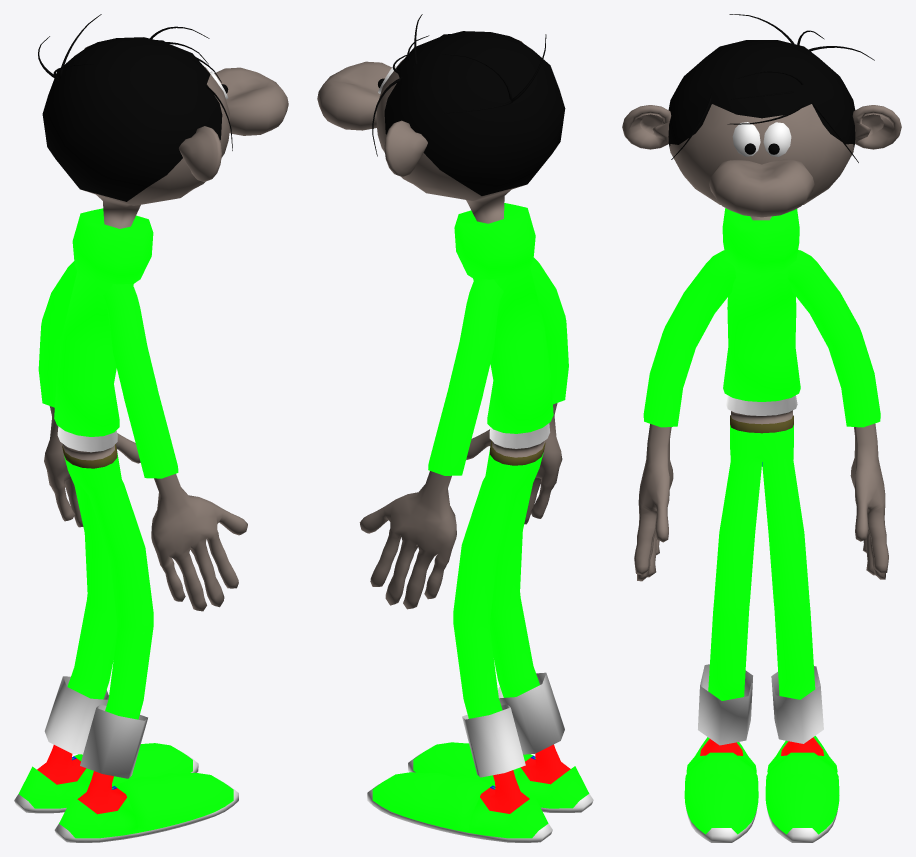
Rendered from spectator_green_medium.dae.
The picture shows the model from 3 angles, left to right: view 1: azimuth 30°, elevation 25°; view 2: azimuth 150°, elevation 25°; view 3: azimuth 270°, elevation 25°; orthographic projection.
Parts seen in each view (by area): view 1: Spectator; view 2: Spectator; view 3: Spectator.
Boxes of the visible parts, left/top/right/bottom form: Spectator: left=14, top=14, right=288, bottom=842; Spectator: left=317, top=14, right=593, bottom=842; Spectator: left=622, top=14, right=901, bottom=842.
Bounding box in the file's own units: 0.5277 × 0.5296 × 1.6.
